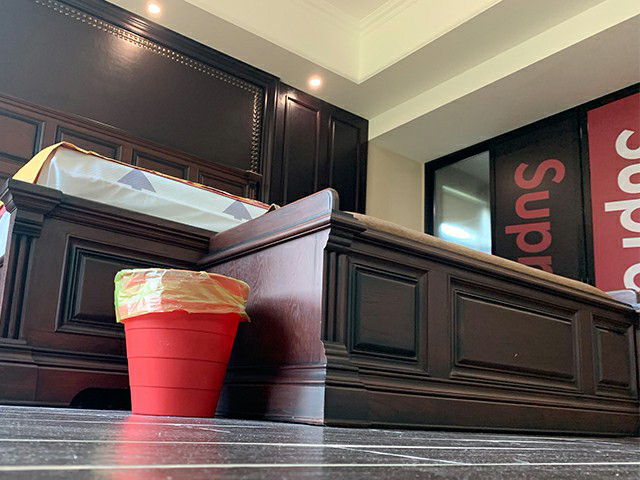bed: (1, 140, 278, 409)
stool: (194, 187, 640, 439)
trashcan: (113, 267, 250, 419)
